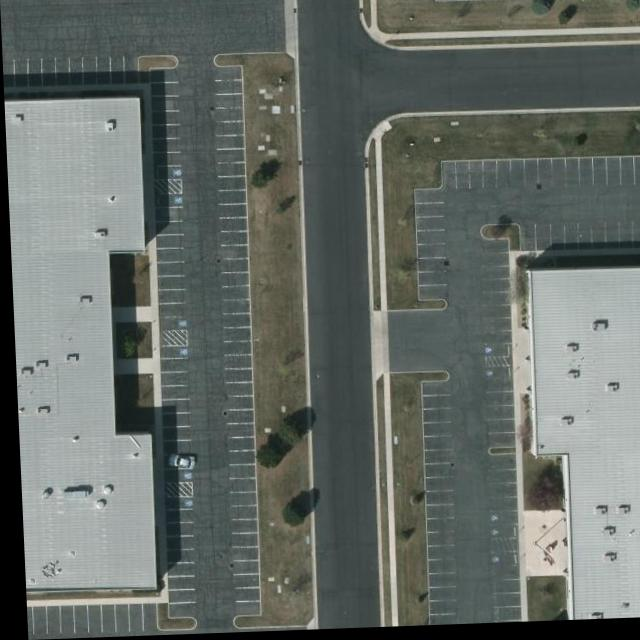vehicle: (162, 455, 191, 470)
